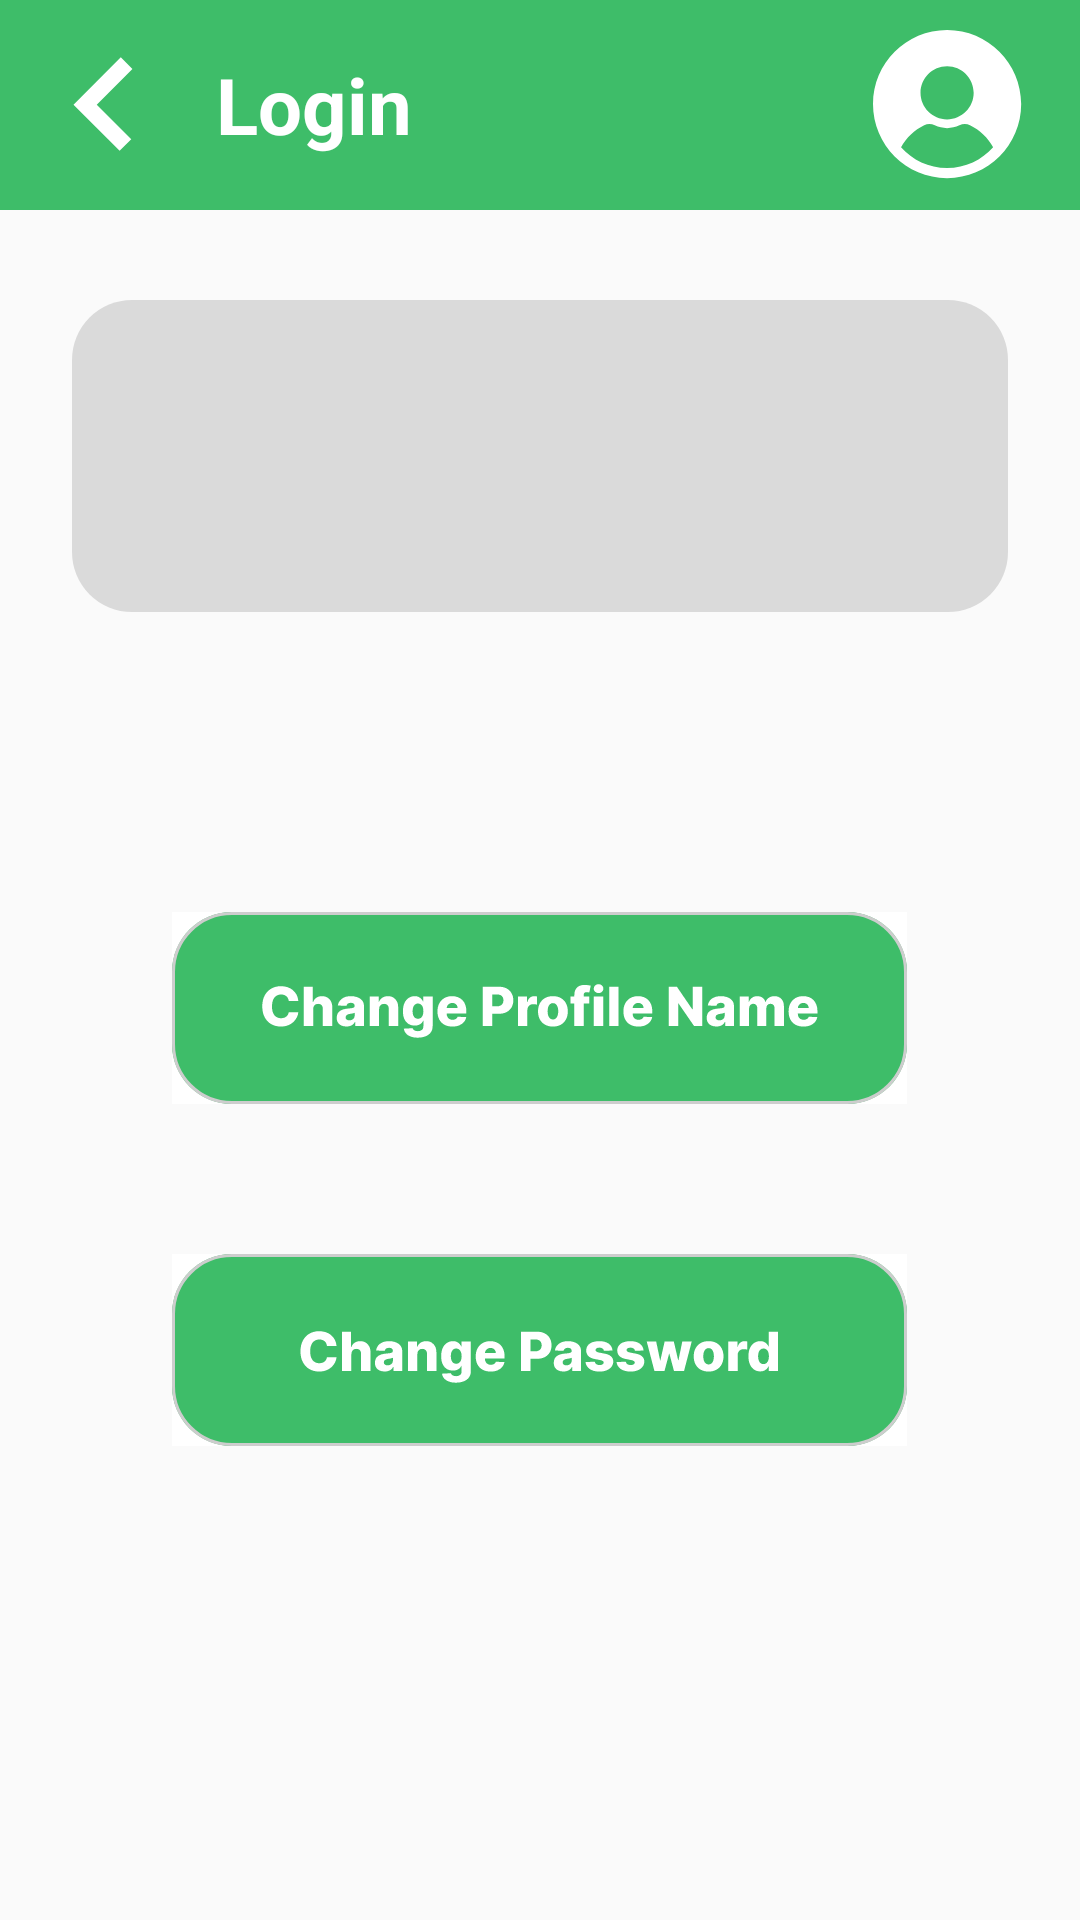

Where icons sit on this 1080x1920 app screen, as (x1, y1, x2, y2):
back: (73, 57, 132, 151)
